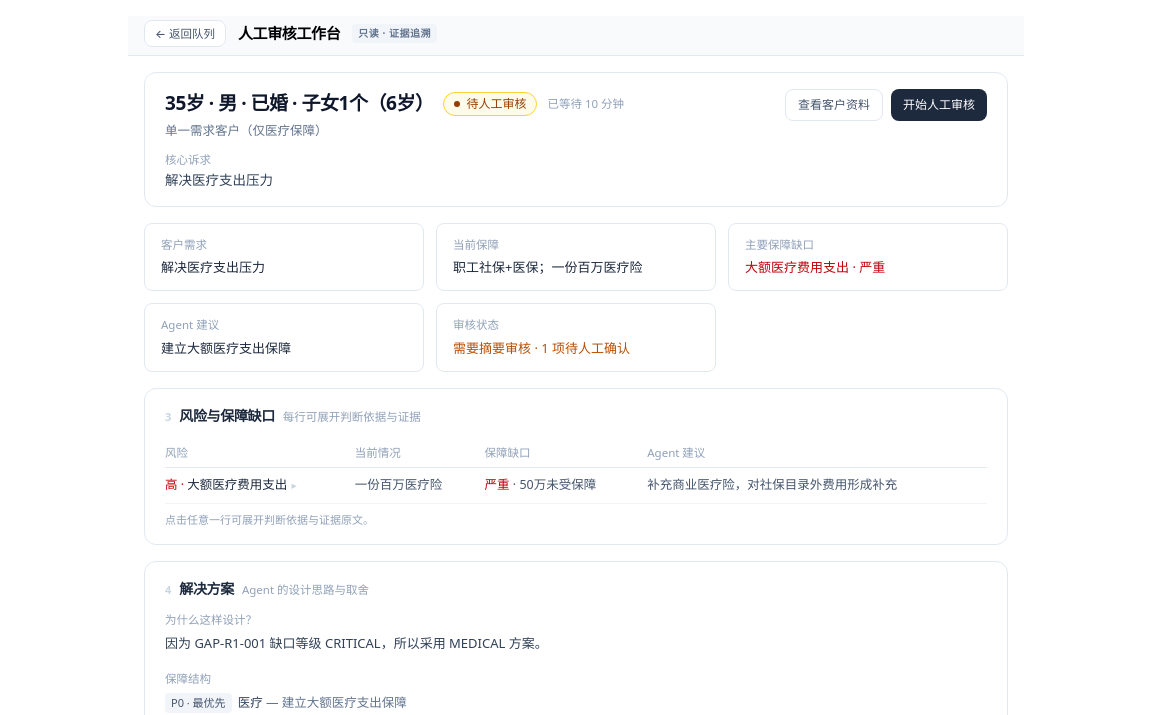
Review Workspace — Phase 27.7.7 human-readable IA › case header answers who / need / status without any internal ids
expect the element with test id "workspace-header" is shown: met, box [144, 72, 1008, 207]
expect the element with test id "workspace-header" shows "35岁 · 男 · 已婚 · 子女1个（6岁）": met, box [165, 90, 433, 116]
Click the button with test id "show-client-profile": (834, 105) [785, 89, 883, 121]
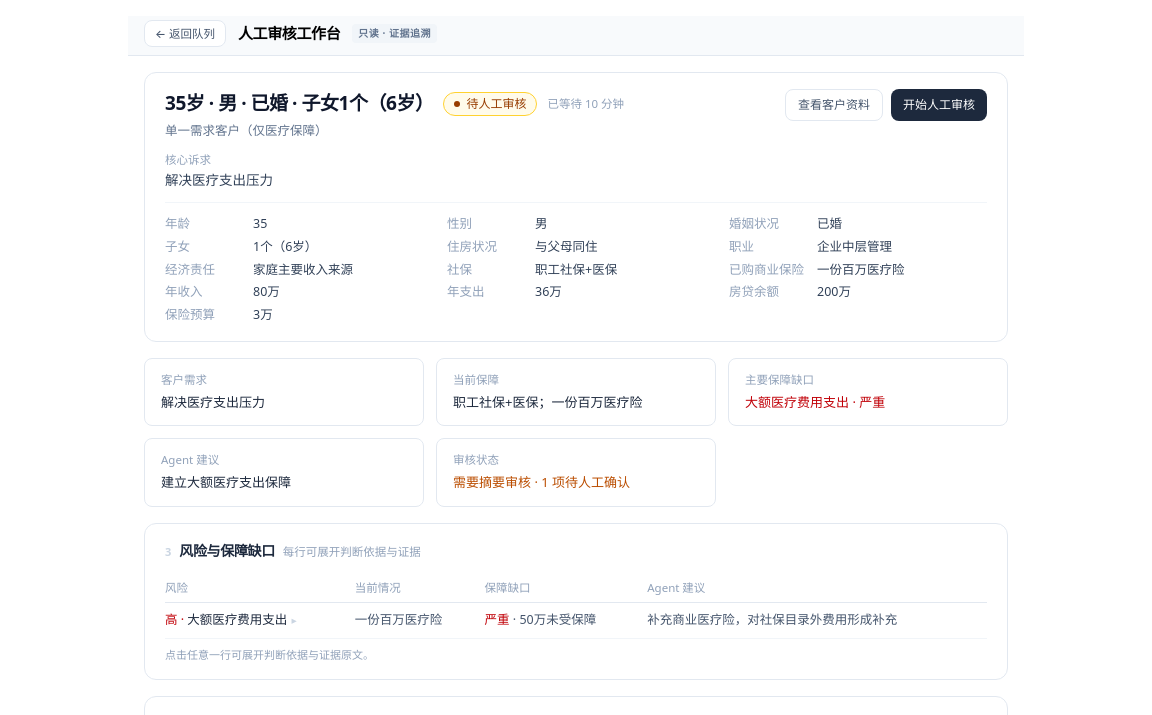
expect the button with test id "start-human-review" is shown: met, box [891, 89, 987, 121]
expect the element with test id "client-profile-fields" shows "职工社保+医保": met, box [535, 260, 617, 278]
